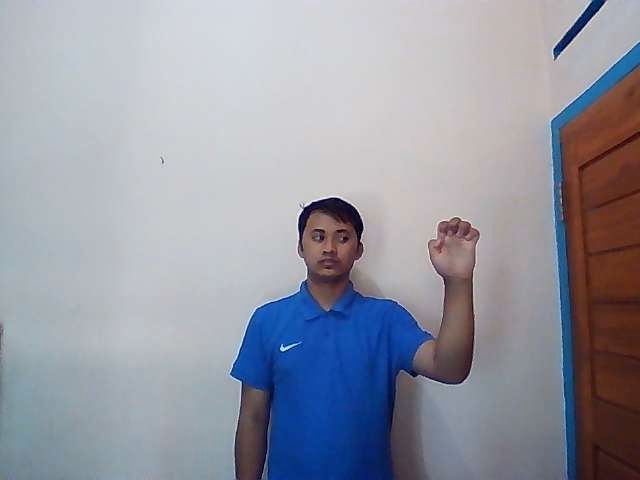E: (426, 216, 482, 279)
